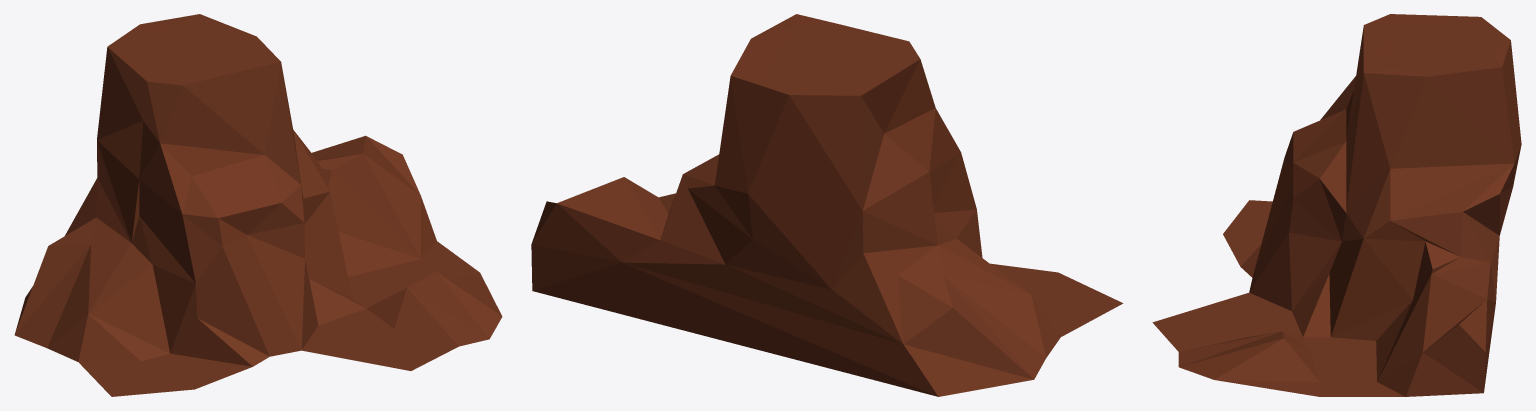
File: 08 Mountain_3.FBX.glb
The picture shows the model from 3 angles, left to right: view 1: azimuth 30°, elevation 25°; view 2: azimuth 150°, elevation 25°; view 3: azimuth 270°, elevation 25°; orthographic projection. The views are drawn at different scales.
Parts seen in each view (by area): view 1: Mountain_3.2; view 2: Mountain_3.2; view 3: Mountain_3.2.
Boxes of the visible parts, left/top/right/bottom form: Mountain_3.2: left=14, top=14, right=502, bottom=396; Mountain_3.2: left=531, top=14, right=1123, bottom=396; Mountain_3.2: left=1152, top=14, right=1521, bottom=396.
Bounding box in the file's own units: 3113 × 1715 × 2410.
